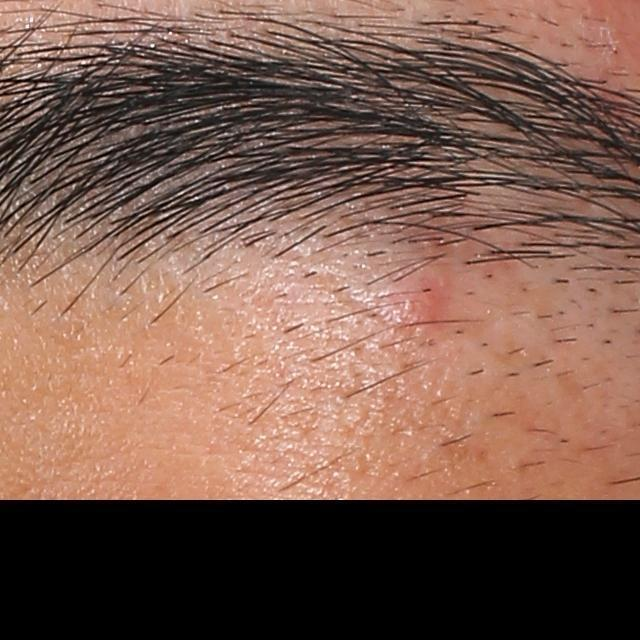papule: (390, 274, 450, 328)
